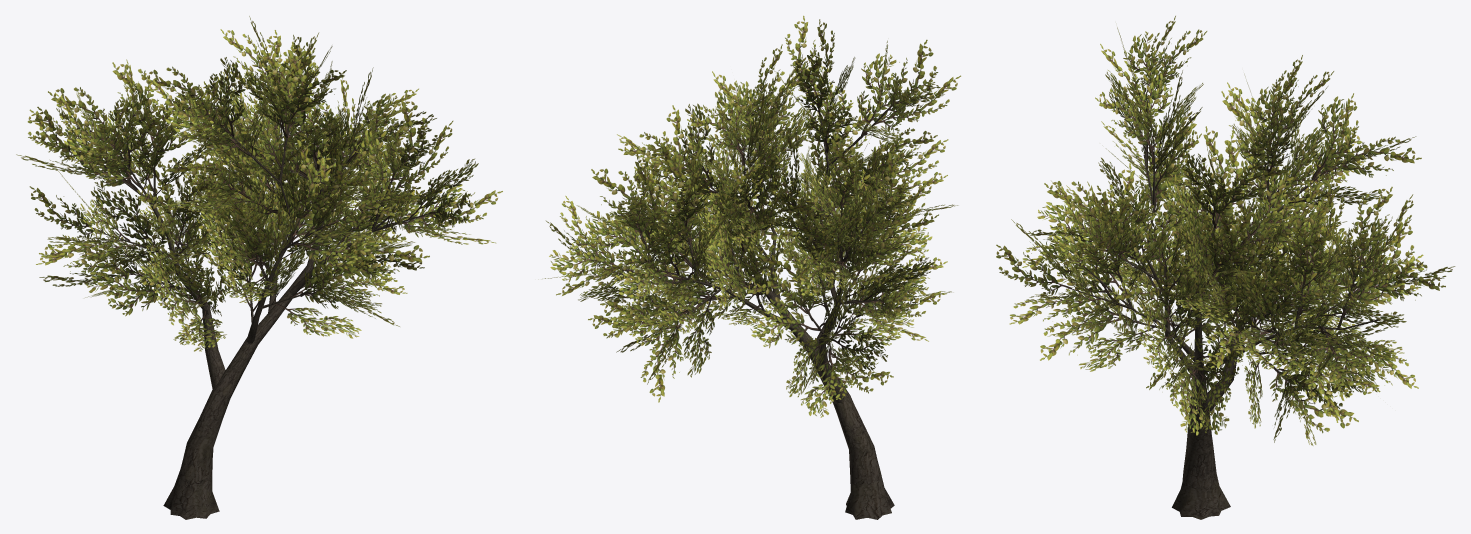
File: hill_top_tree_f.glb
3 renders of one model, left to right at view 1: azimuth 30°, elevation 25°; view 2: azimuth 150°, elevation 25°; view 3: azimuth 270°, elevation 25°, orthographic. The views are drawn at different scales.
Visible parts, largest first — view 1: Canopy 1, Spline Branch E001, Spline Branch A001, Spline Branch B001; view 2: Canopy 1, Spline Branch E001, Spline Branch A001; view 3: Canopy 1, Spline Branch E001, Spline Branch A001.
Part boxes in pixels (x1,y1,x2,y2): Canopy 1: [16, 16, 502, 351]; Spline Branch E001: [163, 180, 324, 519]; Spline Branch A001: [148, 194, 225, 388]; Spline Branch B001: [246, 158, 295, 343]; Canopy 1: [544, 15, 960, 417]; Spline Branch E001: [747, 198, 894, 519]; Spline Branch A001: [818, 260, 844, 403]; Canopy 1: [996, 16, 1455, 445]; Spline Branch E001: [1172, 278, 1230, 519]; Spline Branch A001: [1207, 210, 1278, 414].
Bounding box in the file's own units: 489 × 555 × 486.
Materials: 2 (2 with a texture image).
